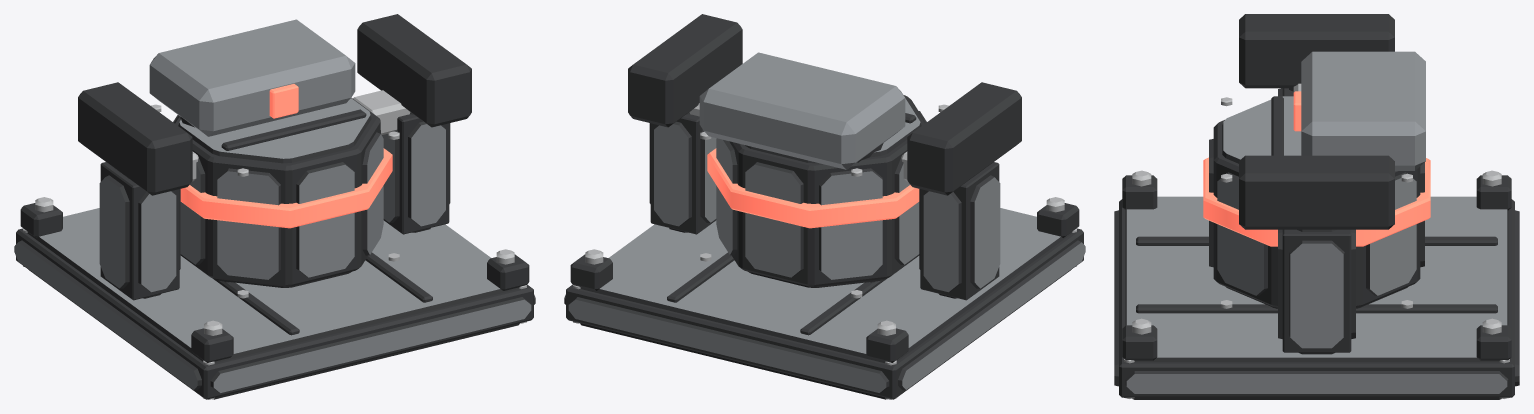
Rendered from R4X_OffensiveTurretDeployer.fbx.
3 views of the same model, side by side, from view 1: azimuth 30°, elevation 25°; view 2: azimuth 150°, elevation 25°; view 3: azimuth 270°, elevation 25° (orthographic). The views are drawn at different scales.
Visible parts, largest first — view 1: R4X_OffensiveTurretDeployer_Body, R4X_OffensiveTurretDeployer_Pod; view 2: R4X_OffensiveTurretDeployer_Body, R4X_OffensiveTurretDeployer_Pod; view 3: R4X_OffensiveTurretDeployer_Body, R4X_OffensiveTurretDeployer_Pod.
Boxes of the visible parts, <box> form: R4X_OffensiveTurretDeployer_Body: <box>14,14,535,399</box>; R4X_OffensiveTurretDeployer_Pod: <box>149,19,399,298</box>; R4X_OffensiveTurretDeployer_Body: <box>564,14,1085,399</box>; R4X_OffensiveTurretDeployer_Pod: <box>699,52,948,298</box>; R4X_OffensiveTurretDeployer_Body: <box>1114,14,1519,399</box>; R4X_OffensiveTurretDeployer_Pod: <box>1203,51,1430,308</box>.
Bounding box in the file's own units: 0.52 × 0.33 × 0.52.
